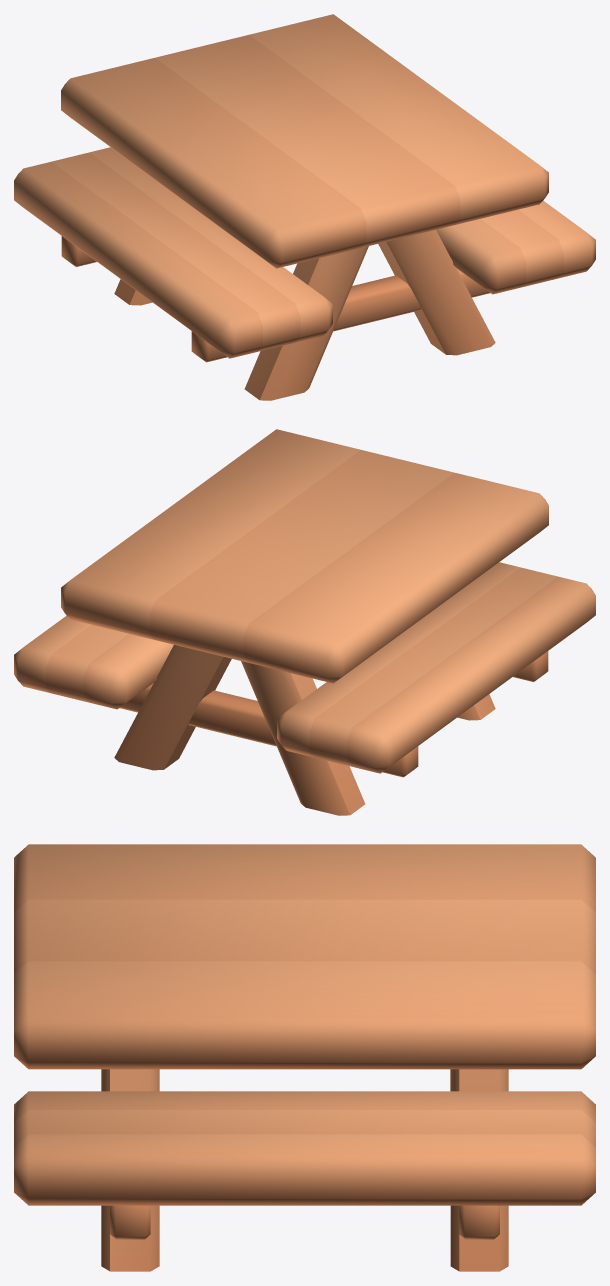
File: picnic_table.gltf
The picture shows the model from 3 angles, top to bottom: view 1: azimuth 30°, elevation 25°; view 2: azimuth 150°, elevation 25°; view 3: azimuth 270°, elevation 25°; orthographic projection. The views are drawn at different scales.
Parts seen in each view (by area): view 1: picnic_table; view 2: picnic_table; view 3: picnic_table.
Part boxes in pixels (x1,y1,x2,y2): picnic_table: [14, 14, 595, 400]; picnic_table: [14, 429, 595, 815]; picnic_table: [14, 844, 595, 1271].
Bounding box in the file's own units: 2 × 1 × 2.
1 material, 1 textured.
